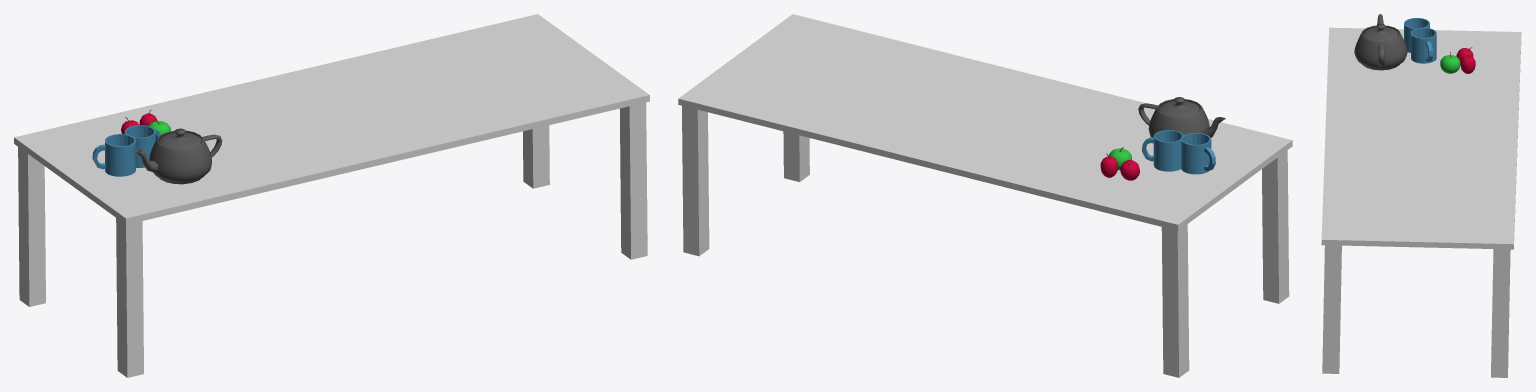
Rendered from TischNeu.FBX.
3 renders of one model, left to right at view 1: azimuth 30°, elevation 25°; view 2: azimuth 150°, elevation 25°; view 3: azimuth 270°, elevation 25°, orthographic. The views are drawn at different scales.
Parts seen in each view (by area): view 1: Box001, Box005, Box002, Box004, Teekanne, Box003, Tasse1, Tasse2; view 2: Box001, Box004, Box003, Box005, Teekanne, Tasse2, Tasse1, Box002; view 3: Box001, Box002, Box003, Teekanne, Tasse2, Tasse1, Apfel1, Apfel3.
Boxes of the visible parts, box(x1,y1,x2,y2) form: Box001: box(14, 14, 649, 224); Box005: box(116, 218, 143, 377); Box002: box(619, 102, 647, 259); Box004: box(18, 147, 45, 306); Teekanne: box(133, 128, 222, 184); Box003: box(523, 125, 549, 188); Tasse1: box(92, 134, 135, 176); Tasse2: box(124, 125, 160, 167); Box001: box(678, 14, 1292, 230); Box004: box(1161, 224, 1189, 377); Box003: box(682, 106, 709, 256); Box005: box(1262, 150, 1289, 303); Teekanne: box(1138, 97, 1225, 137); Tasse2: box(1142, 130, 1183, 171); Tasse1: box(1181, 132, 1215, 174); Box002: box(783, 131, 809, 182); Box001: box(1321, 27, 1521, 249); Box002: box(1322, 245, 1341, 373); Box003: box(1491, 249, 1510, 377); Teekanne: box(1354, 14, 1407, 70); Tasse2: box(1411, 27, 1436, 63); Tasse1: box(1404, 18, 1429, 52); Apfel1: box(1440, 51, 1460, 73); Apfel3: box(1460, 54, 1475, 73).
Size of the model in its own units: 149 by 56.88 by 58.92.
